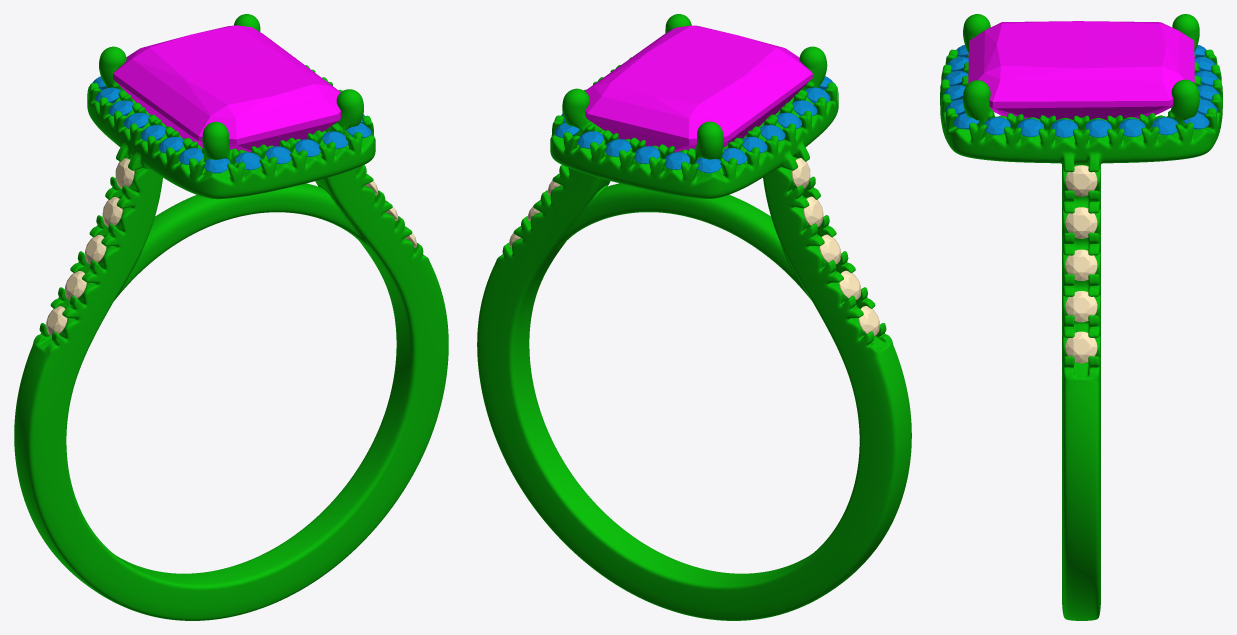
Rendered from BE1D32H_RA_200ct_RENDER.glb.
3 renders of one model, left to right at view 1: azimuth 30°, elevation 25°; view 2: azimuth 150°, elevation 25°; view 3: azimuth 270°, elevation 25°, orthographic.
Parts seen in each view (by area): view 1: Metal 01, CS_Diamond_Radiant; view 2: Metal 01, CS_Diamond_Radiant; view 3: Metal 01, CS_Diamond_Radiant, Diamond_Round_Gem_SH.006, Diamond_Round_Gem_SH.007, Diamond_Round_Gem_SH.008, Diamond_Round_Gem_SH.009, Diamond_Round_Gem_SH.005.
Boxes of the visible parts, x1,y1,x2,y2 form: Metal 01: (14, 14, 448, 620); CS_Diamond_Radiant: (113, 25, 340, 152); Metal 01: (477, 14, 911, 620); CS_Diamond_Radiant: (585, 25, 812, 152); Metal 01: (940, 14, 1222, 620); CS_Diamond_Radiant: (968, 21, 1194, 119); Diamond_Round_Gem_SH.006: (1065, 207, 1097, 238); Diamond_Round_Gem_SH.007: (1065, 249, 1097, 280); Diamond_Round_Gem_SH.008: (1065, 291, 1097, 322); Diamond_Round_Gem_SH.009: (1065, 331, 1097, 363); Diamond_Round_Gem_SH.005: (1065, 165, 1097, 196).
Size of the model in its own units: 20.25 by 25 by 11.58.
